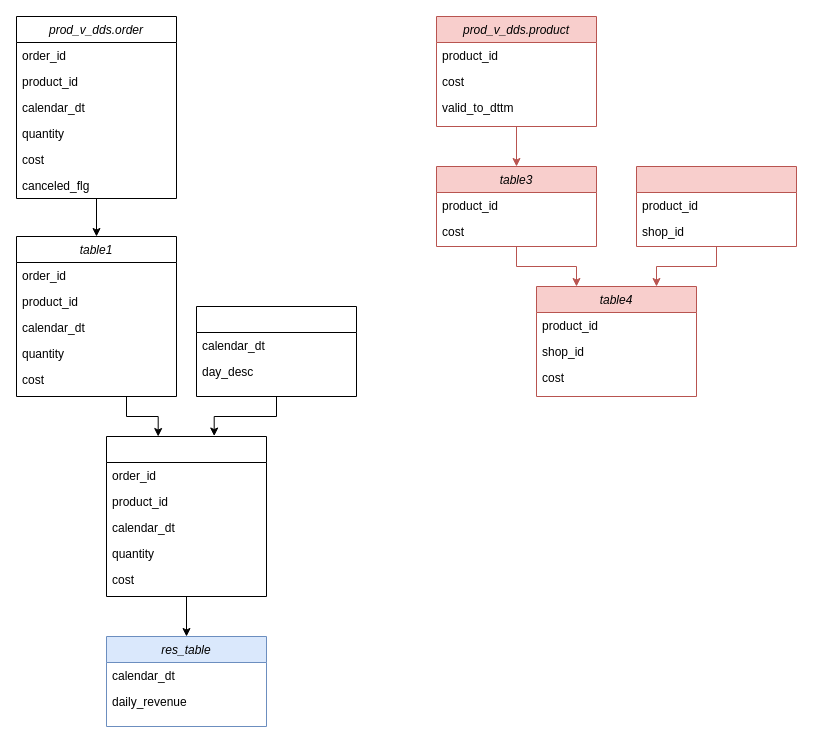
This 813x743 diagram has some shape labels left out. Here are the shapes that lost their labels. From the top down, the box of each, then its label:
(636, 166, 796, 246): prod_v_dds.shop
(196, 306, 356, 396): prod_v_dds.schedule
(106, 436, 266, 596): table2
